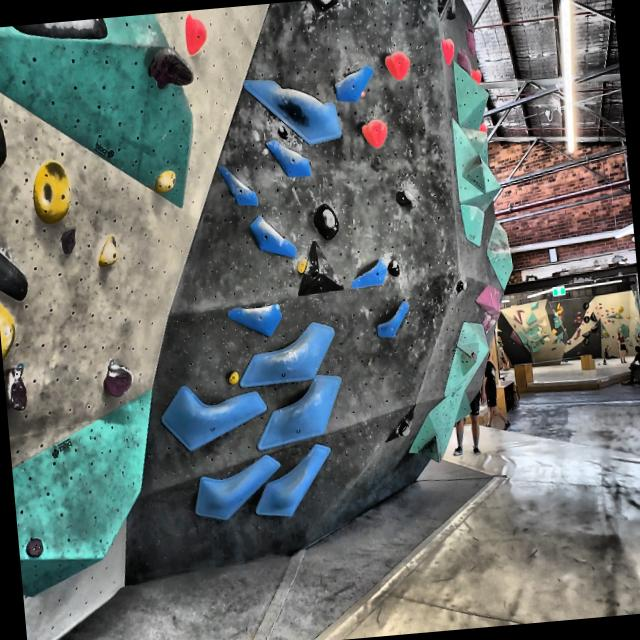Hold: (232, 68, 345, 150), (250, 373, 346, 453), (160, 379, 269, 448), (190, 452, 284, 532), (233, 321, 341, 386), (255, 445, 332, 519), (27, 154, 76, 227), (12, 16, 116, 46), (143, 41, 196, 94), (260, 134, 313, 186), (222, 300, 288, 340), (248, 216, 298, 264), (329, 62, 379, 106), (220, 162, 262, 210), (374, 289, 412, 341), (0, 239, 29, 304), (180, 12, 216, 62), (98, 356, 136, 400), (308, 200, 342, 244), (360, 114, 397, 154), (346, 261, 388, 291), (0, 299, 20, 358), (458, 13, 484, 58), (4, 366, 28, 413), (378, 49, 414, 80), (95, 230, 120, 274), (147, 166, 180, 196), (56, 226, 81, 262), (390, 182, 416, 208), (305, 0, 345, 16), (22, 536, 48, 560), (0, 108, 9, 171), (440, 36, 458, 64), (475, 64, 487, 88), (477, 119, 489, 133)
